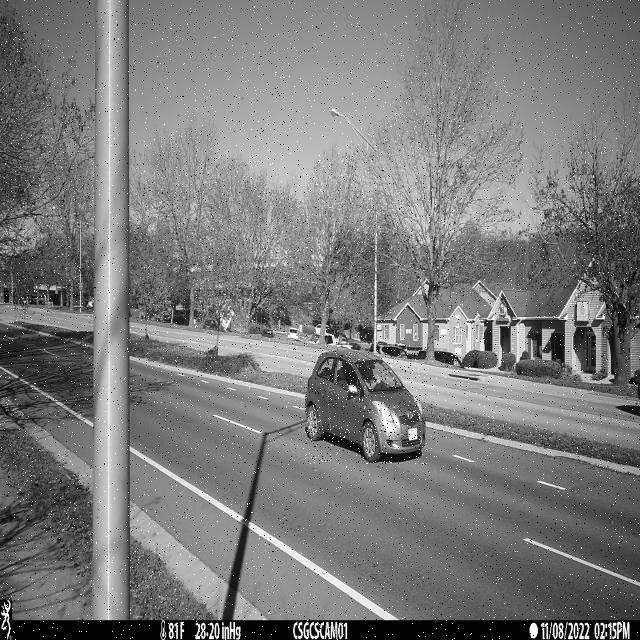Hatchback: (305, 350, 427, 464)
